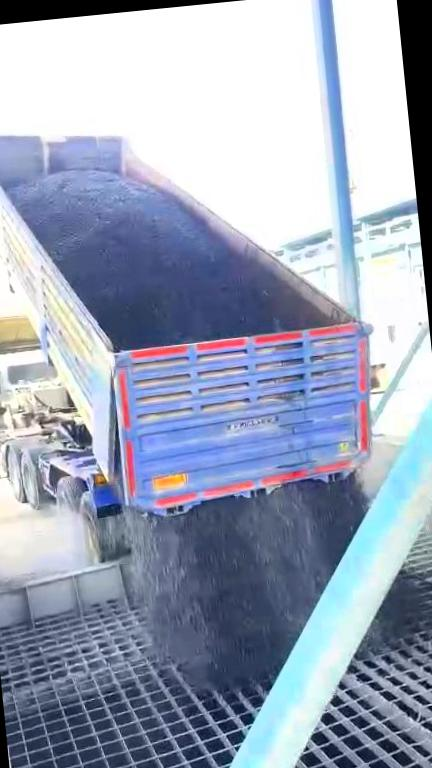gravel: (10, 170, 319, 349), (128, 476, 367, 687), (363, 561, 425, 652)
